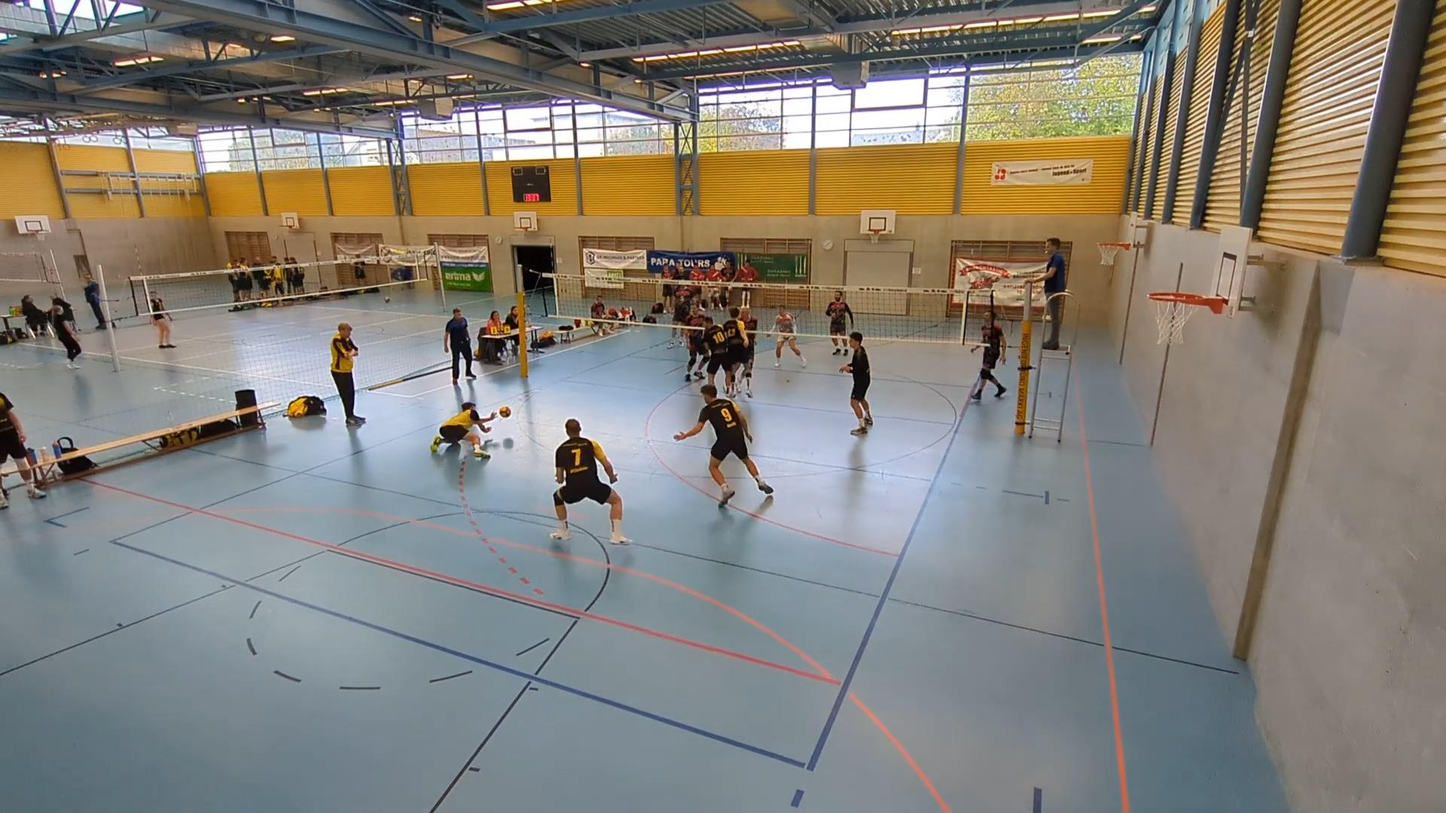Dig: (429, 398, 499, 460)
Player: (674, 384, 773, 507), (550, 419, 629, 544), (840, 330, 873, 435), (972, 312, 1007, 400), (723, 306, 748, 397), (774, 303, 806, 367), (685, 303, 710, 379), (703, 316, 729, 385), (825, 291, 853, 354), (740, 306, 758, 397), (667, 287, 691, 346)
ball: (500, 404, 512, 419)
